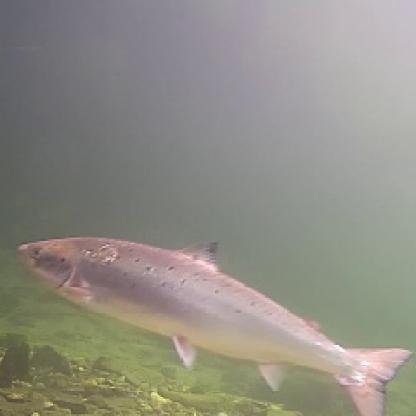salmon: (12, 229, 414, 414)
